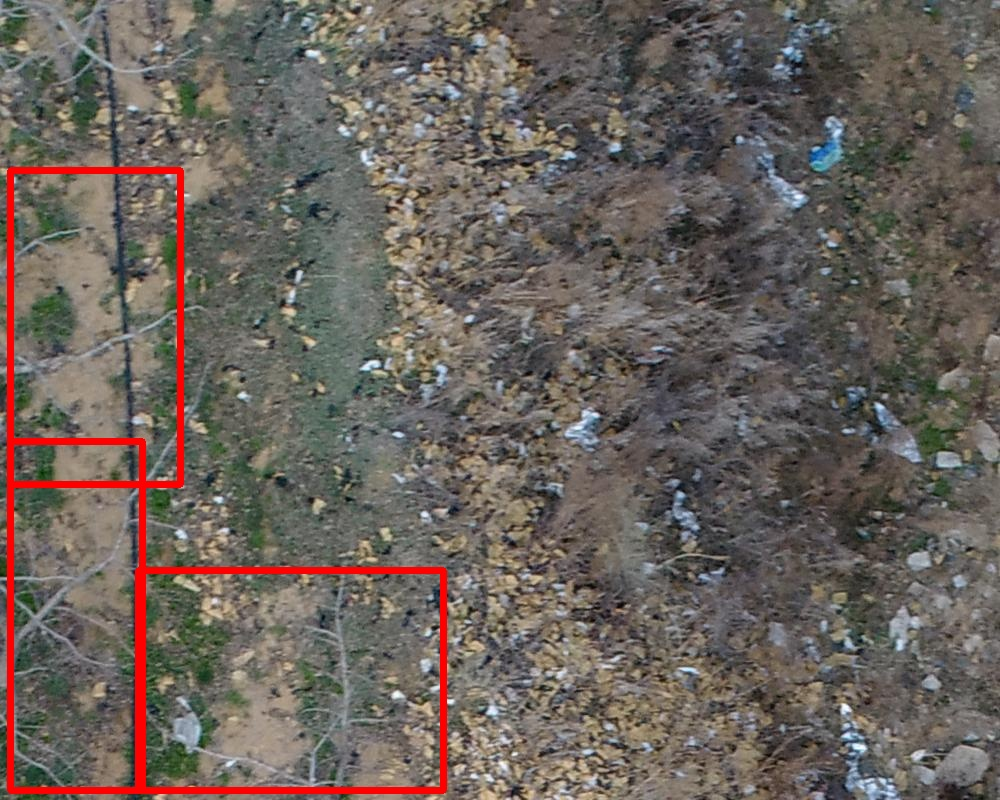apple: (138, 570, 443, 790), (10, 170, 180, 484), (10, 441, 142, 790)
